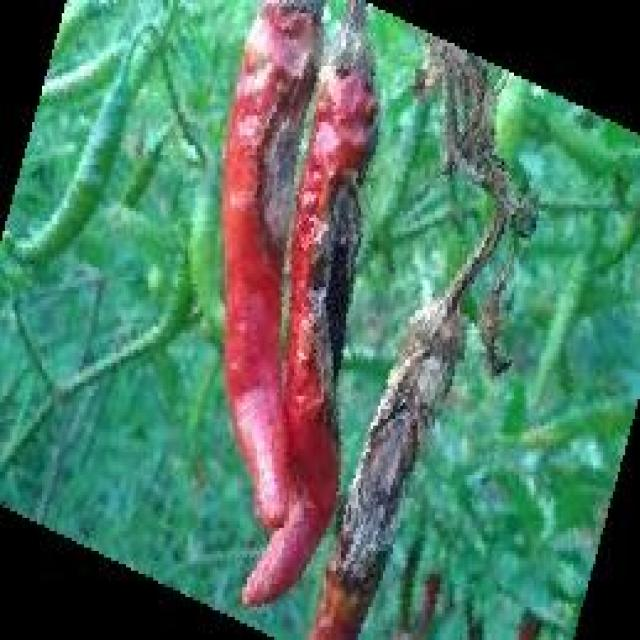Moko: (324, 288, 484, 579), (268, 101, 401, 443), (238, 57, 310, 279)
